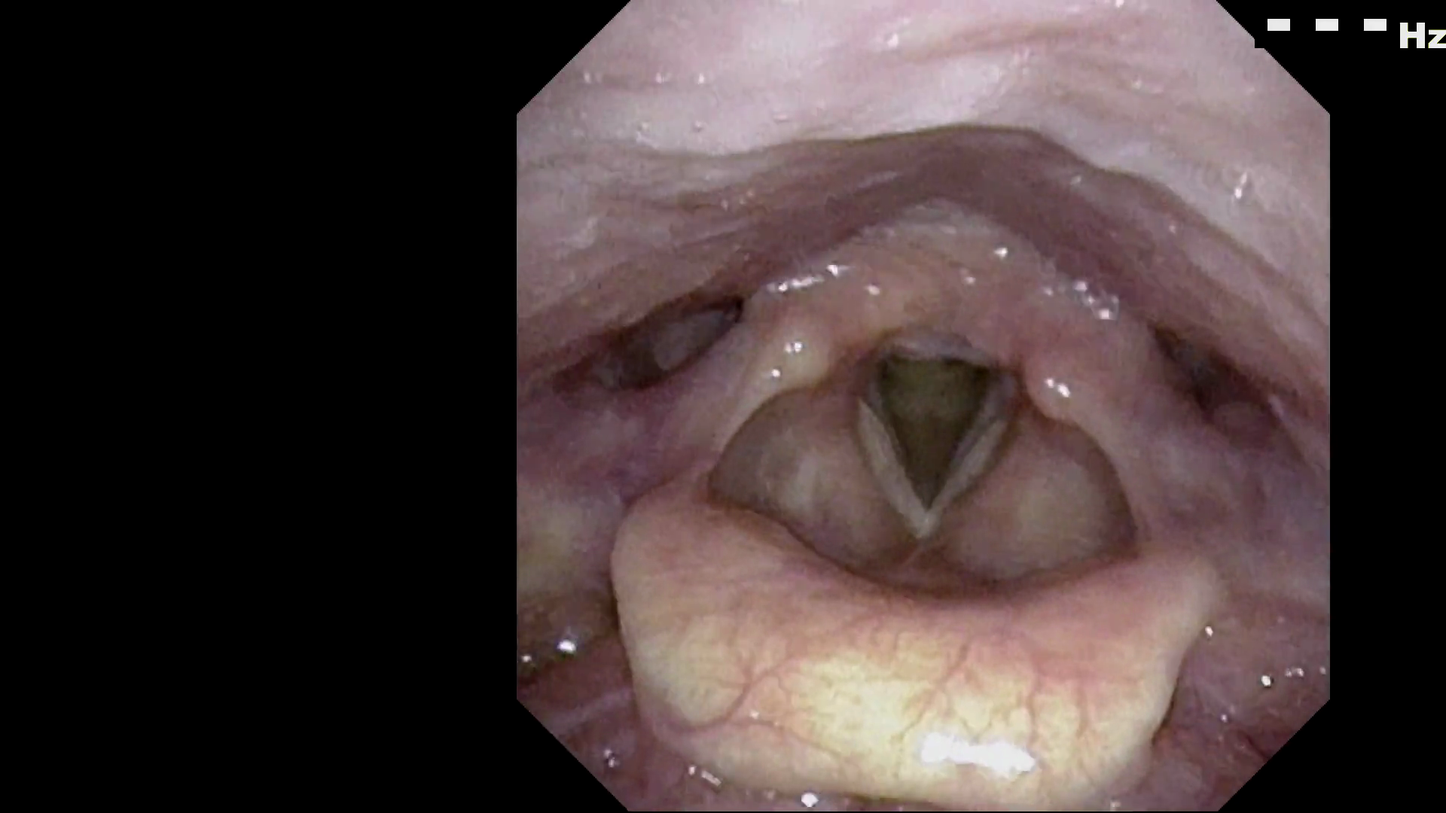epiglottis: (600, 503, 1209, 767)
trachea: (842, 327, 1021, 552)
